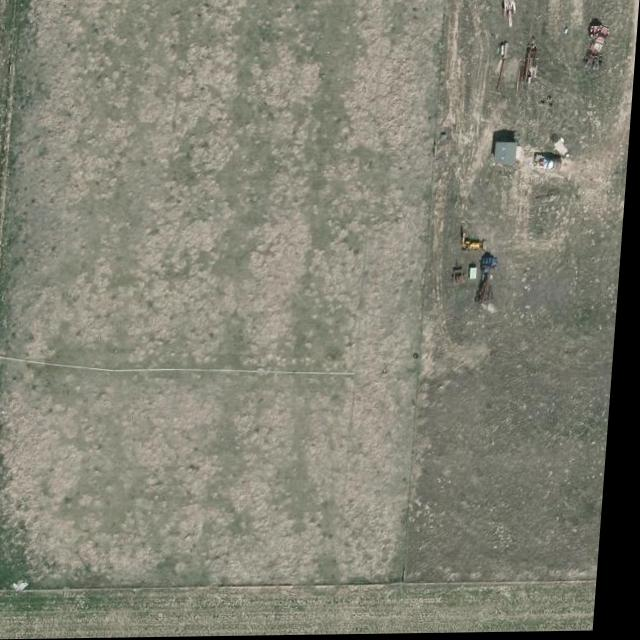vehicle: (583, 27, 610, 74), (481, 257, 503, 306), (536, 157, 565, 171)
